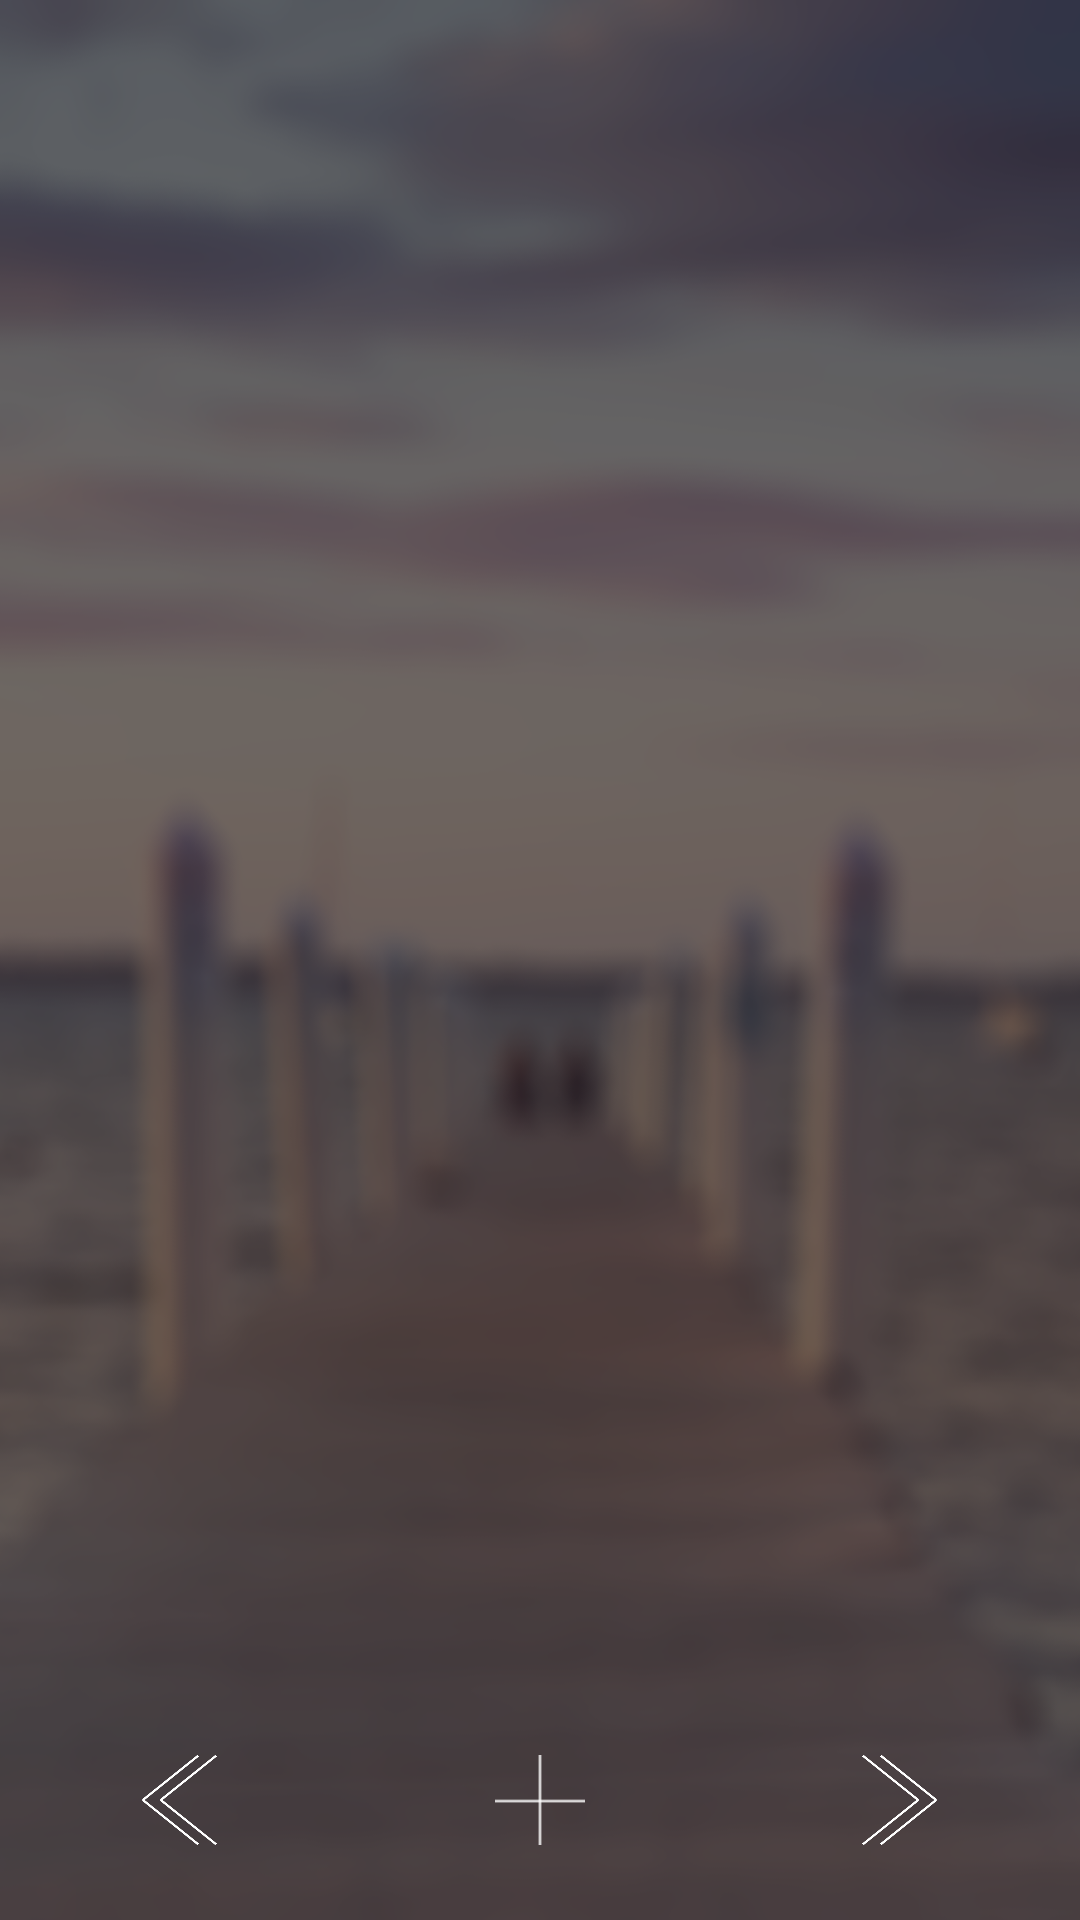

Named icons in this screenshot (1080*1920) and their centers, (x=x, y=y):
add: (x=540, y=1800)
left: (x=179, y=1800)
right: (x=899, y=1800)
